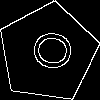O: (22, 27, 73, 73)
